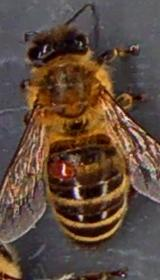varroa_mite: (49, 155, 78, 182)
